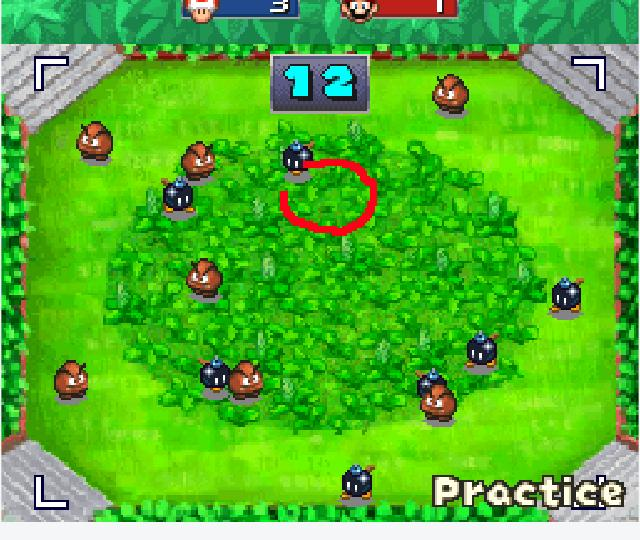bomb: (189, 351, 235, 404), (275, 136, 322, 183), (336, 460, 383, 507), (462, 330, 508, 376), (545, 274, 588, 321), (156, 172, 200, 216), (412, 365, 453, 394)
goomba: (425, 72, 474, 122), (418, 382, 463, 435), (48, 356, 95, 405), (175, 139, 224, 185), (73, 118, 118, 168), (222, 355, 266, 405), (183, 255, 224, 305)
